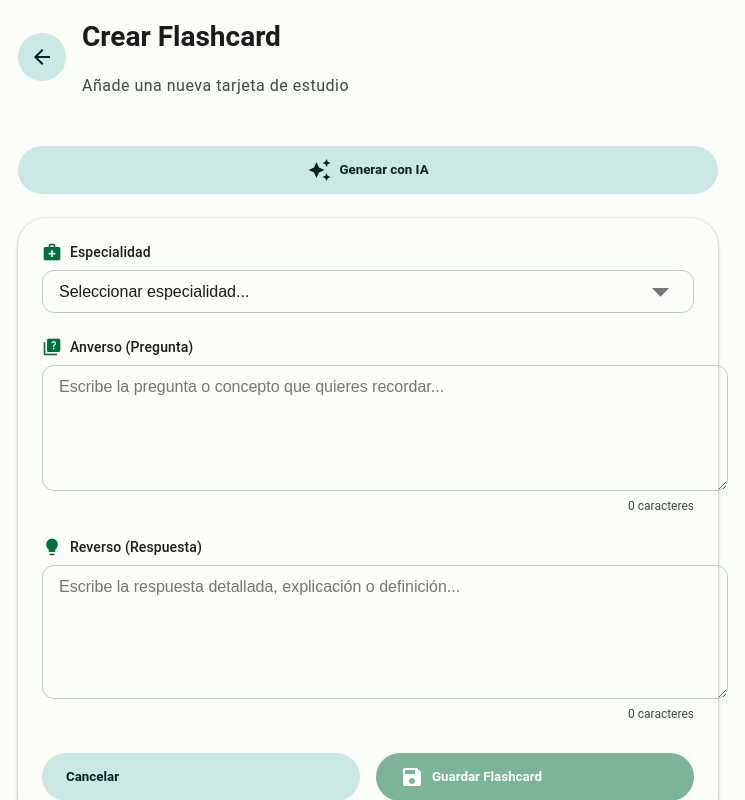
Test case: V2FlashcardCreator › shows success state after successful save
Fill form
Select "Cardiología" in the dropdown at (368, 291), box [42, 270, 694, 312]
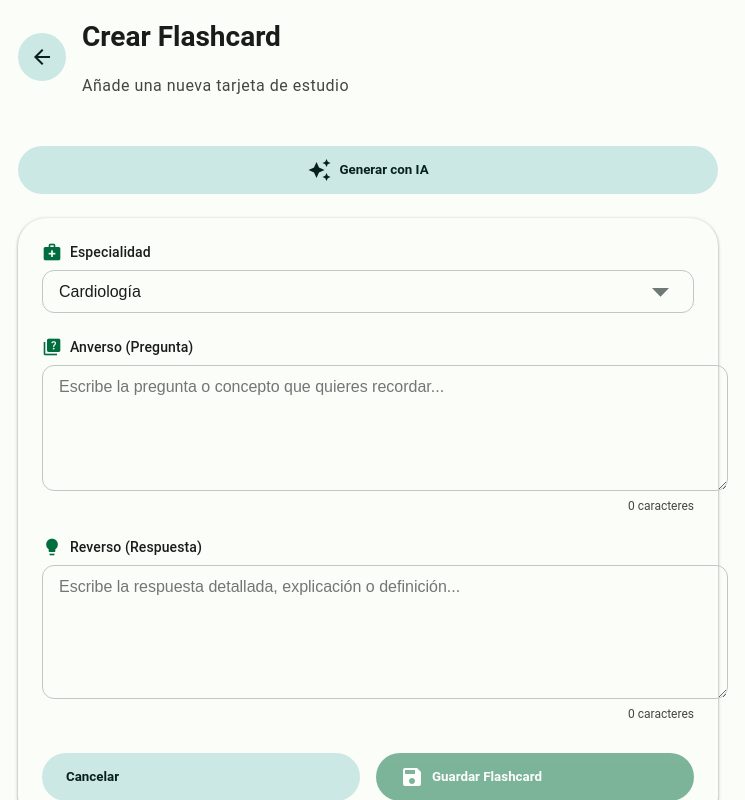
Type "Test question" into the text box labelled "Anverso (Pregunta)".
click(385, 428); type("Test question")  # box [42, 364, 728, 490]
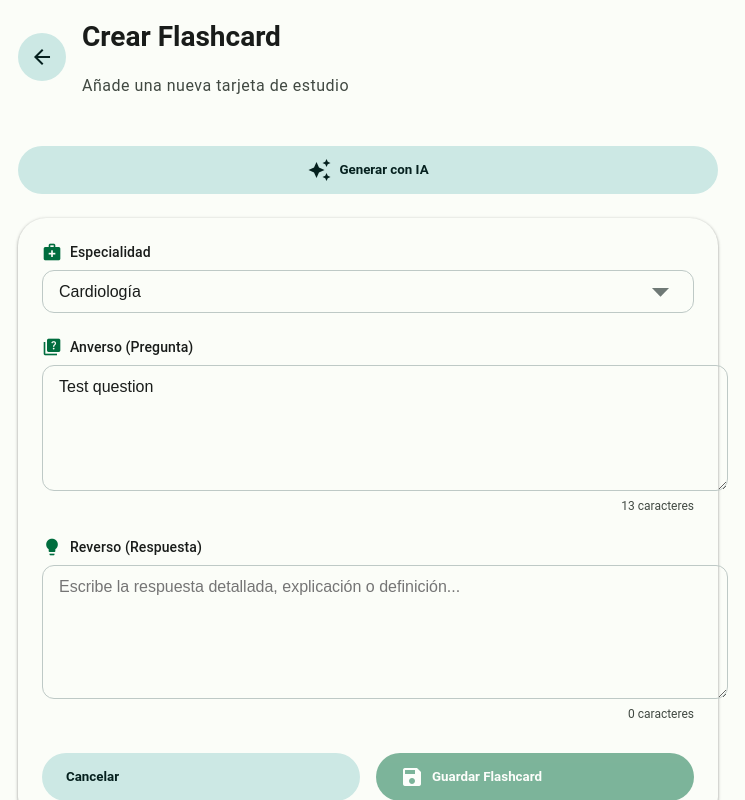
Type "Test answer" into the text box labelled "Reverso (Respuesta)".
click(385, 632); type("Test answer")  # box [42, 564, 728, 698]
(page scrolled)
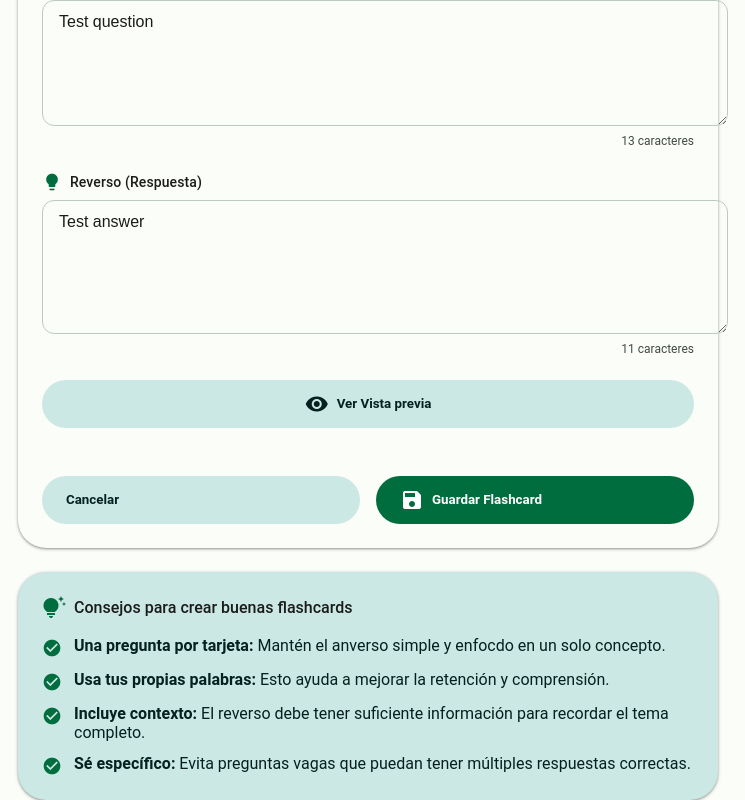
Click the button "Guardar Flashcard".
click(535, 500)  # box [376, 476, 694, 524]
(page scrolled)
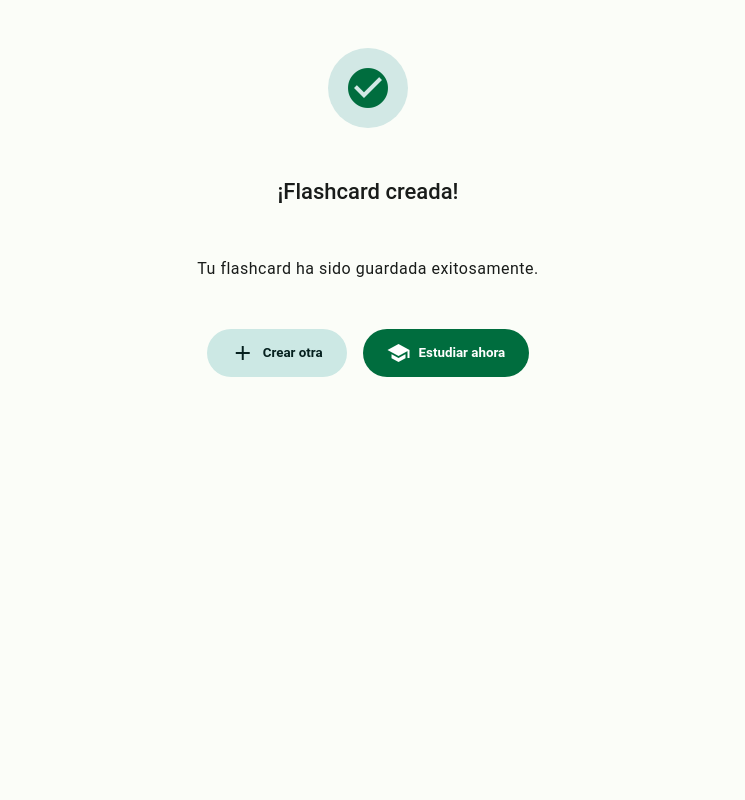
Expected: the heading "¡Flashcard creada!" is shown, [278, 178, 458, 206]
